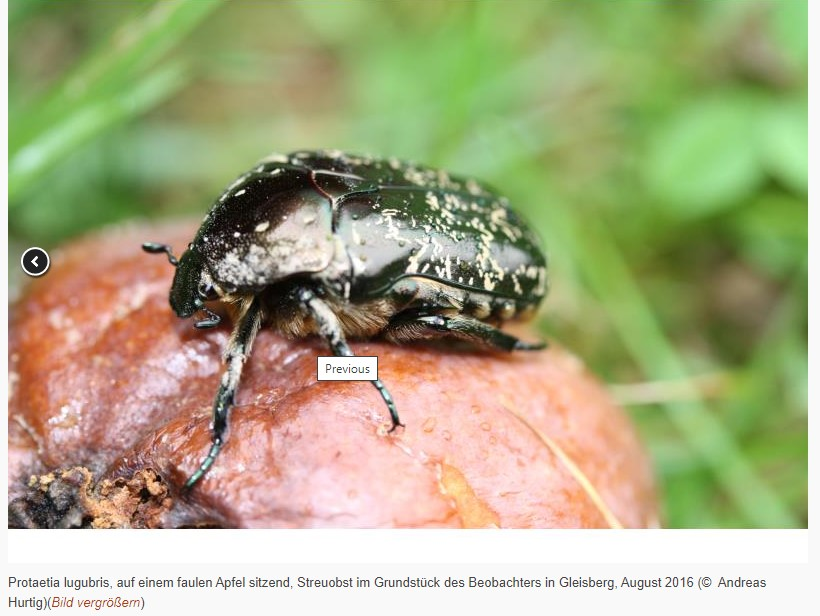Protaetia_lugubris: (158, 135, 560, 489)
